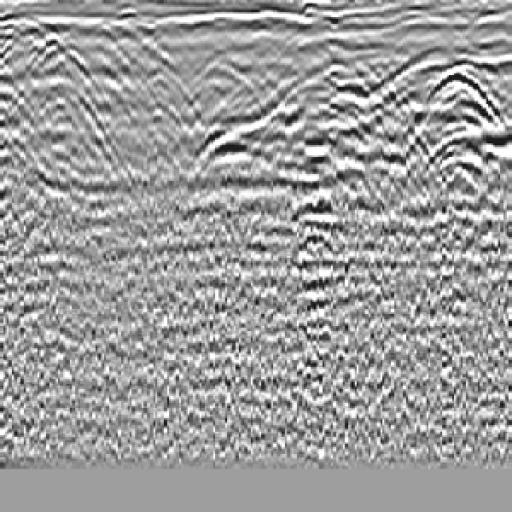non-metallic: (173, 64, 338, 299), (354, 49, 512, 240)
